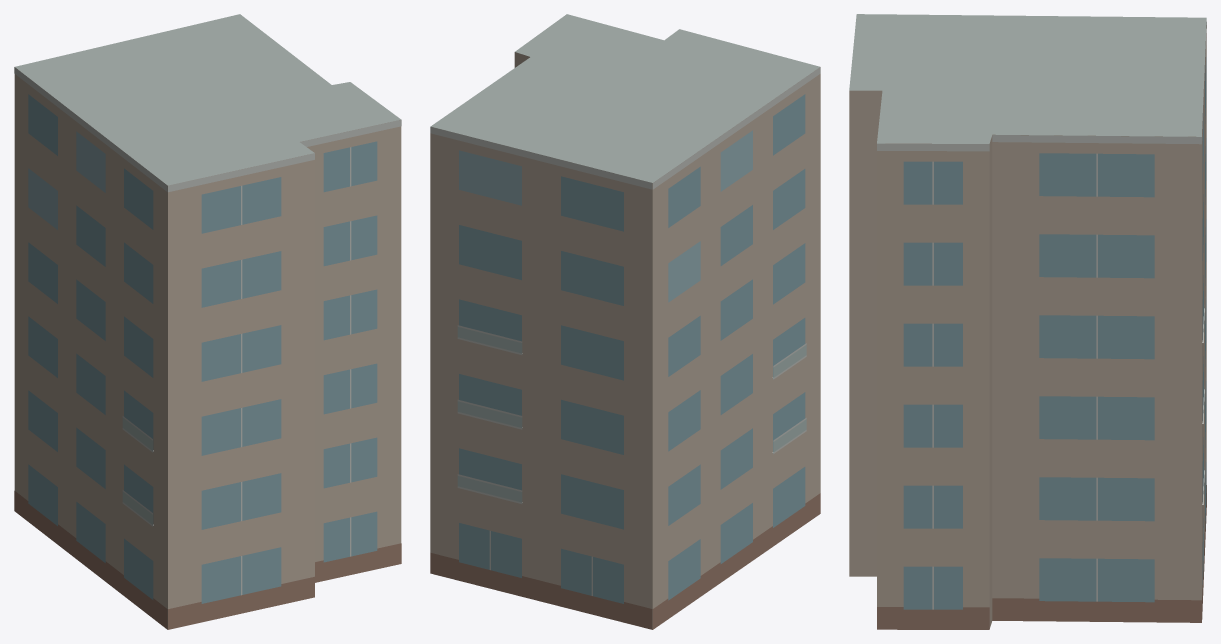
Rendered from survey-upis-32975665.glb.
The picture shows the model from 3 angles, left to right: view 1: azimuth 30°, elevation 25°; view 2: azimuth 150°, elevation 25°; view 3: azimuth 270°, elevation 25°; orthographic projection. The views are drawn at different scales.
Parts seen in each view (by area): view 1: survey-upis-32975665.tmp; view 2: survey-upis-32975665.tmp; view 3: survey-upis-32975665.tmp.
Part boxes in pixels (<box>): survey-upis-32975665.tmp: <box>14,14,401,629</box>; survey-upis-32975665.tmp: <box>430,14,820,629</box>; survey-upis-32975665.tmp: <box>849,14,1206,629</box>.
Size of the model in its own units: 9.28 by 16.15 by 10.78.
